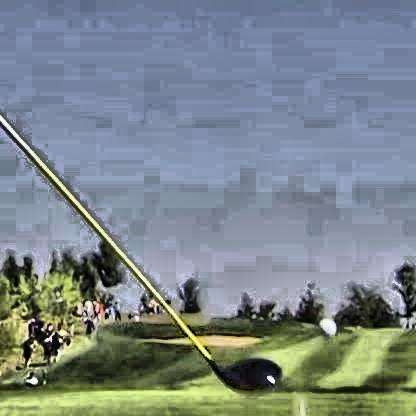golfball: (315, 315, 333, 335)
